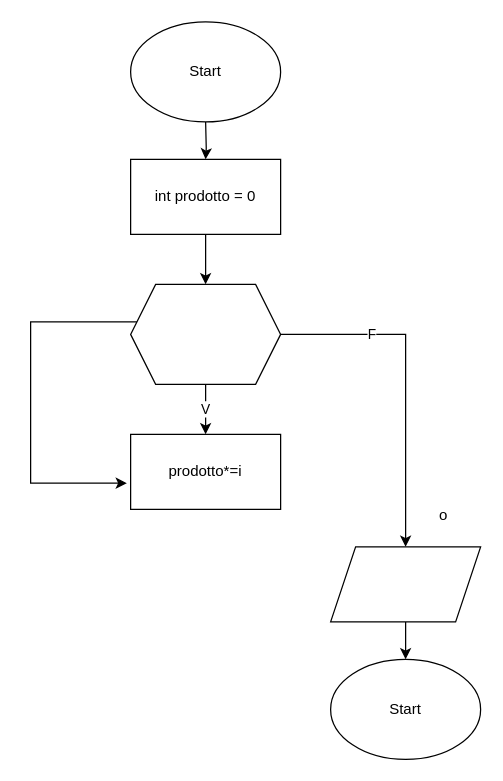
This 503x781 diagram has some shape labels left out. The centre of each missing label's shape, as x and y in pixels:
int i = 1; i<=15; i++: point 205,333
prodotto: point 405,584
